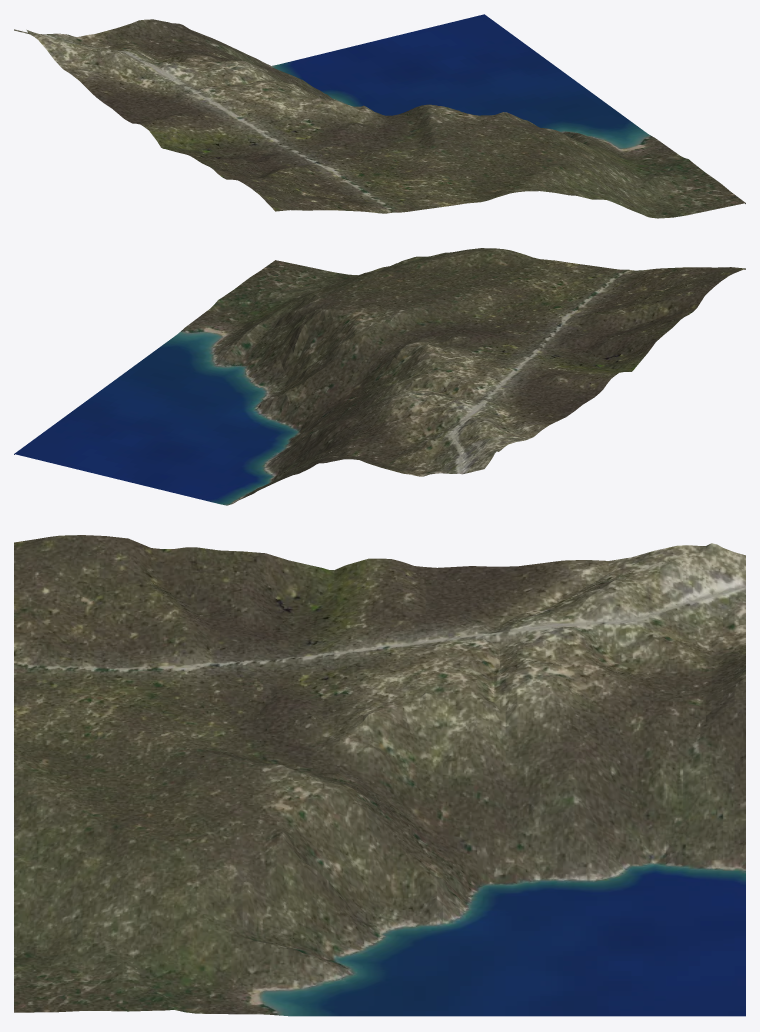
The picture shows the model from 3 angles, top to bottom: view 1: azimuth 30°, elevation 25°; view 2: azimuth 150°, elevation 25°; view 3: azimuth 270°, elevation 25°; orthographic projection. The views are drawn at different scales.
Bounding box in the file's own units: 1000 × 234 × 963.
1 material, 1 textured.
